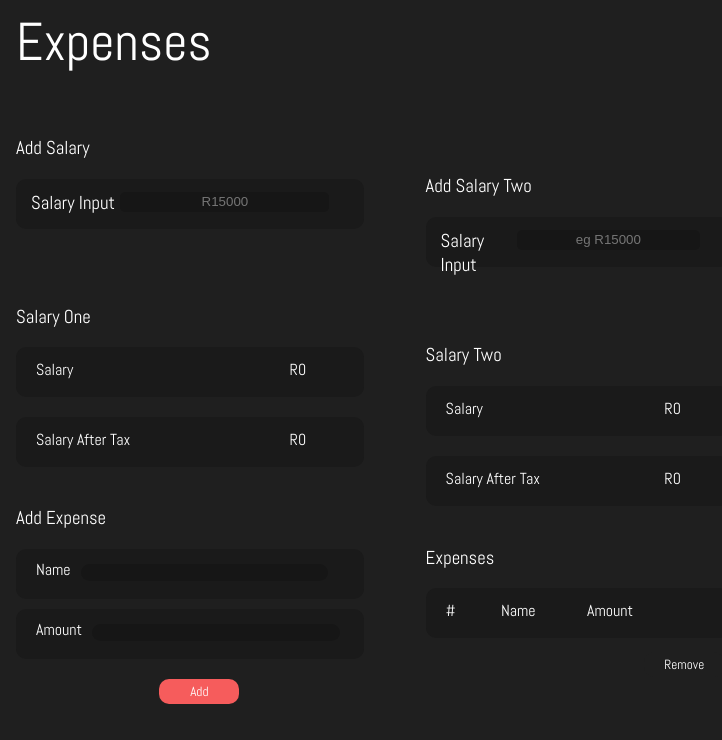
Test: Testing Page Three › Testing Number Of Expenses
This screenshot has width=722, height=740.
In the field named "salaryOne": (225, 202) [120,192,329,212], type "Rent"
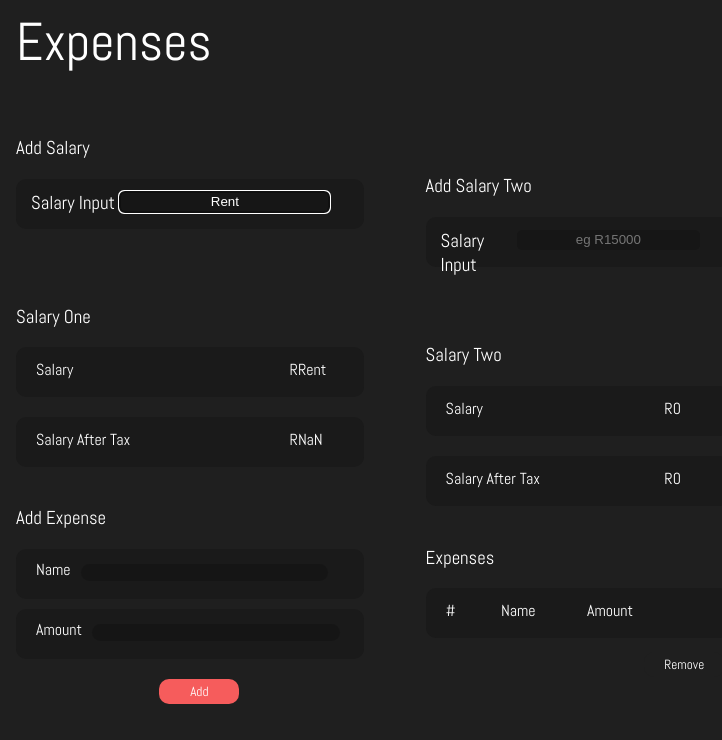
In the field named "salaryTwo": (608, 240) [517,230,700,250], type "7000"
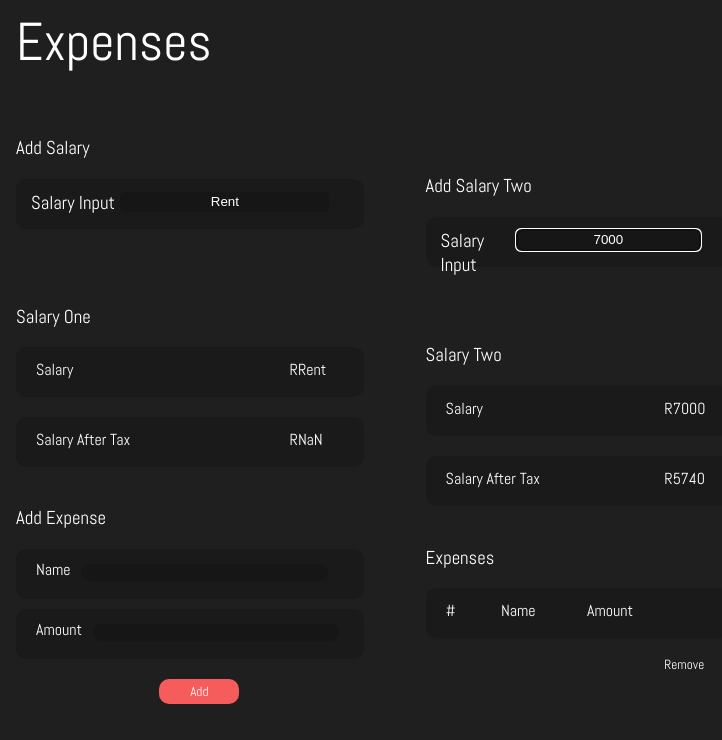
Click the button "Add": (199, 691) [159,679,239,704]
(page scrolled)
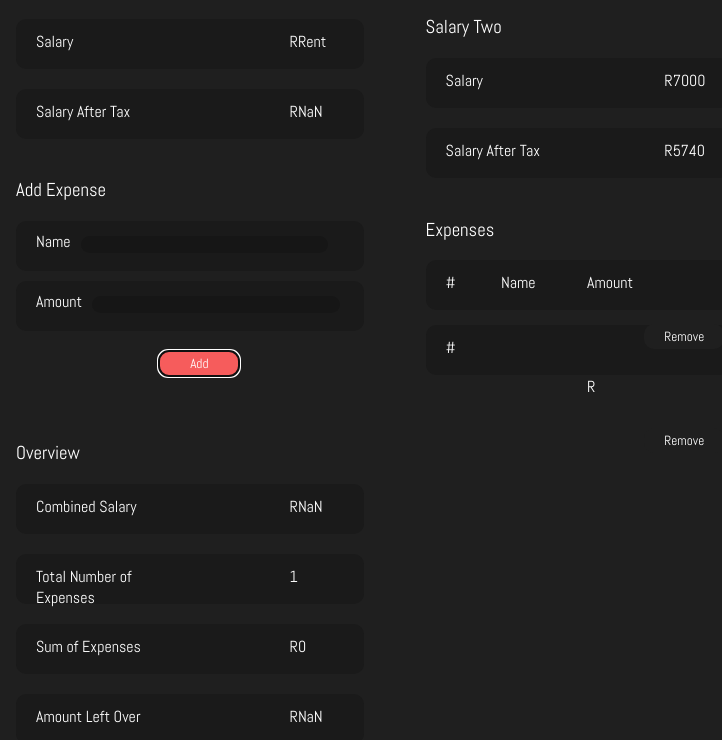
Check: the text named "numberOfExpenses" reads "1", box [290,566,298,587]
